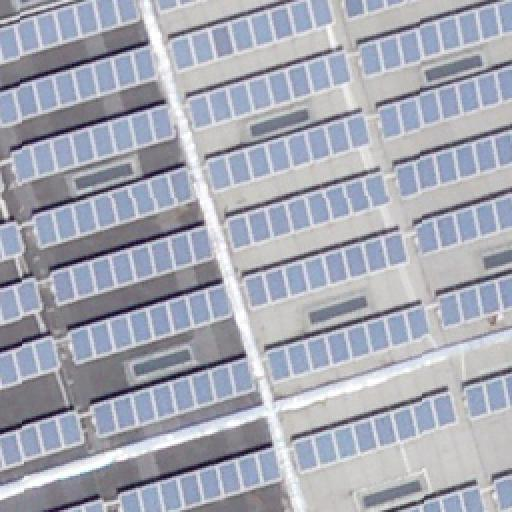solar-panel: (185, 47, 359, 137), (206, 107, 374, 197), (240, 225, 412, 311), (291, 389, 461, 475), (91, 353, 261, 439), (67, 277, 237, 363), (224, 169, 392, 255), (32, 166, 200, 250), (265, 300, 431, 384), (49, 224, 215, 308), (11, 103, 181, 185), (0, 45, 160, 131), (358, 0, 512, 80), (167, 0, 337, 72), (117, 444, 283, 512), (376, 65, 512, 143), (0, 0, 144, 64), (392, 130, 512, 202), (416, 189, 512, 259), (1, 407, 87, 473), (436, 271, 512, 329), (0, 333, 64, 387), (396, 484, 488, 512), (464, 371, 512, 421), (1, 274, 47, 322), (344, 1, 416, 23), (0, 219, 26, 261), (56, 496, 108, 512), (156, 0, 208, 16), (492, 472, 512, 512), (0, 168, 8, 196)
